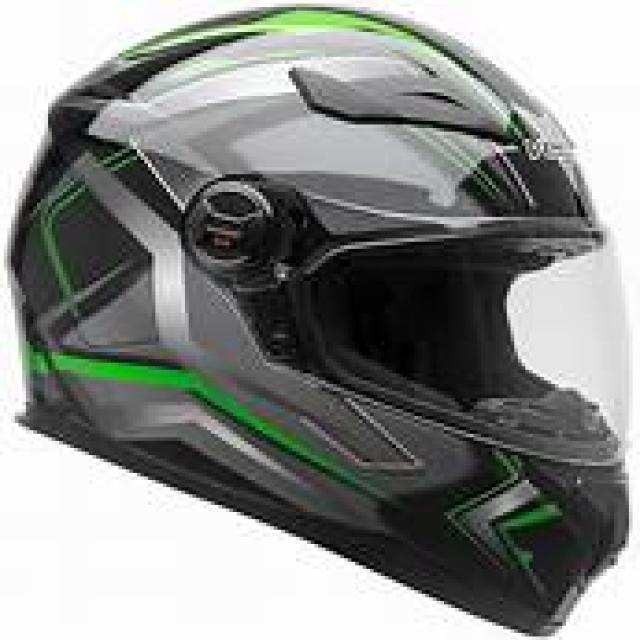helmet: (22, 14, 625, 633)
